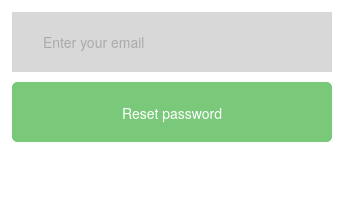
Test: ForgotPasswordForm › disables submit until the email is valid and explains an invalid one
This screenshot has width=349, height=209.
Expected: the button "Reset password" is disabled, [12,82,332,142]
Type "ada" into the field labelled "email" at (172, 42), box [12,12,332,72]
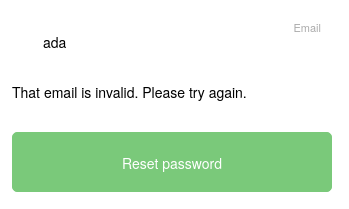
Expected: the button "Reset password" is disabled, [12,132,332,192]
Expected: the text "That email is invalid. Please try again." is shown, [12,82,247,102]
Type "@example.com" into the field labelled "Email" at (172, 42), box [12,12,332,72]
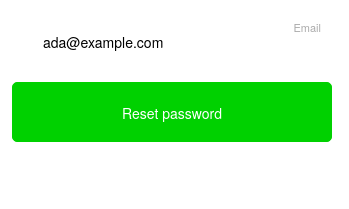
Expected: the button "Reset password" is enabled, [12,82,332,142]
Expected: the text "That email is invalid. Please try again." is gone
